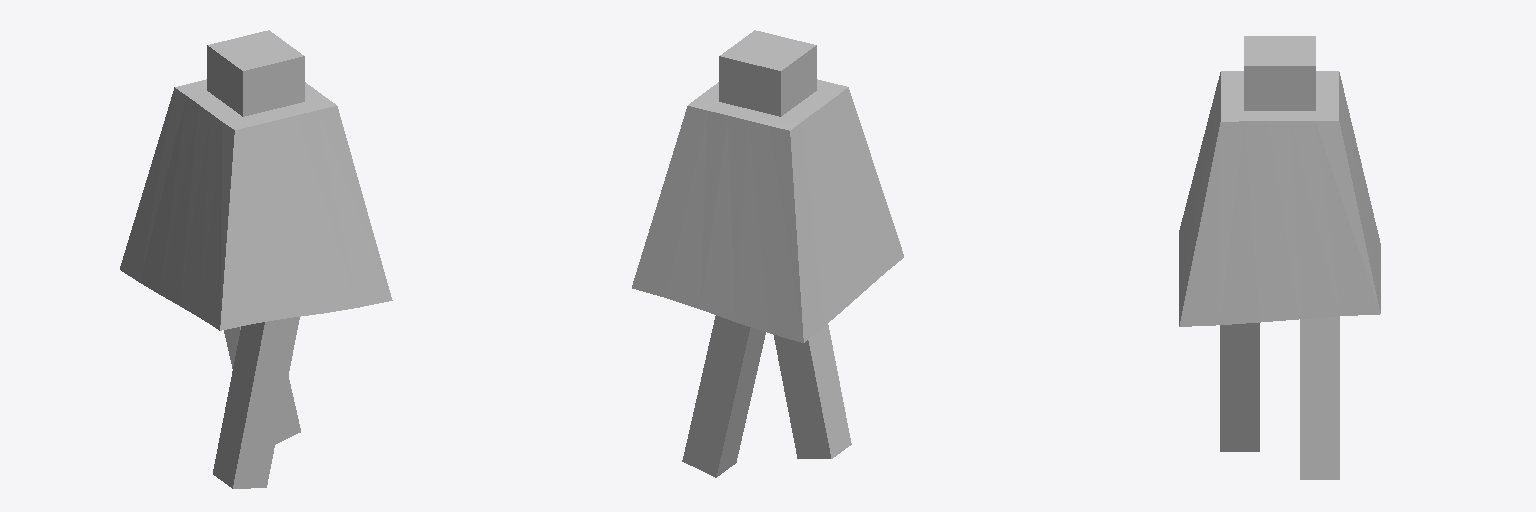
The model's file is essai_000028.obj.
3 renders of one model, left to right at view 1: azimuth 30°, elevation 25°; view 2: azimuth 150°, elevation 25°; view 3: azimuth 270°, elevation 25°, orthographic.
Parts seen in each view (by area): view 1: Cube; view 2: Cube; view 3: Cube.
Boxes of the visible parts, x1,y1,x2,y2 form: Cube: [120, 30, 392, 488]; Cube: [632, 30, 903, 477]; Cube: [1179, 36, 1380, 479].
Size of the model in its own units: 1.99 by 4.5 by 2.